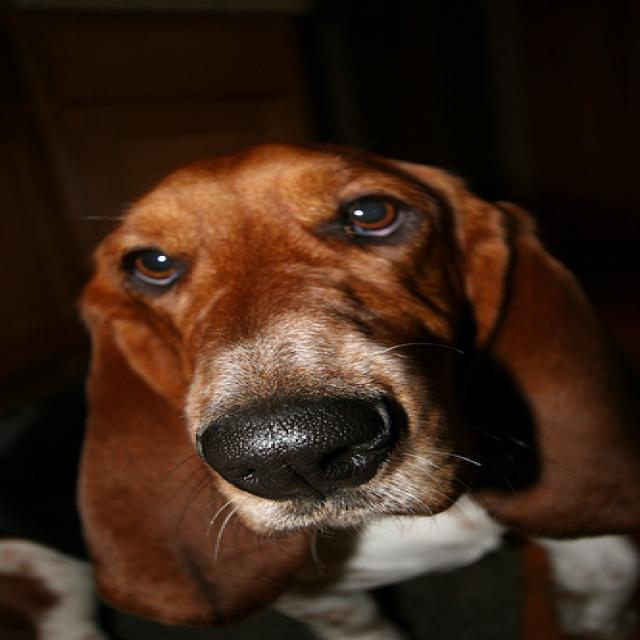dog-basset_hound: (71, 138, 636, 637)
